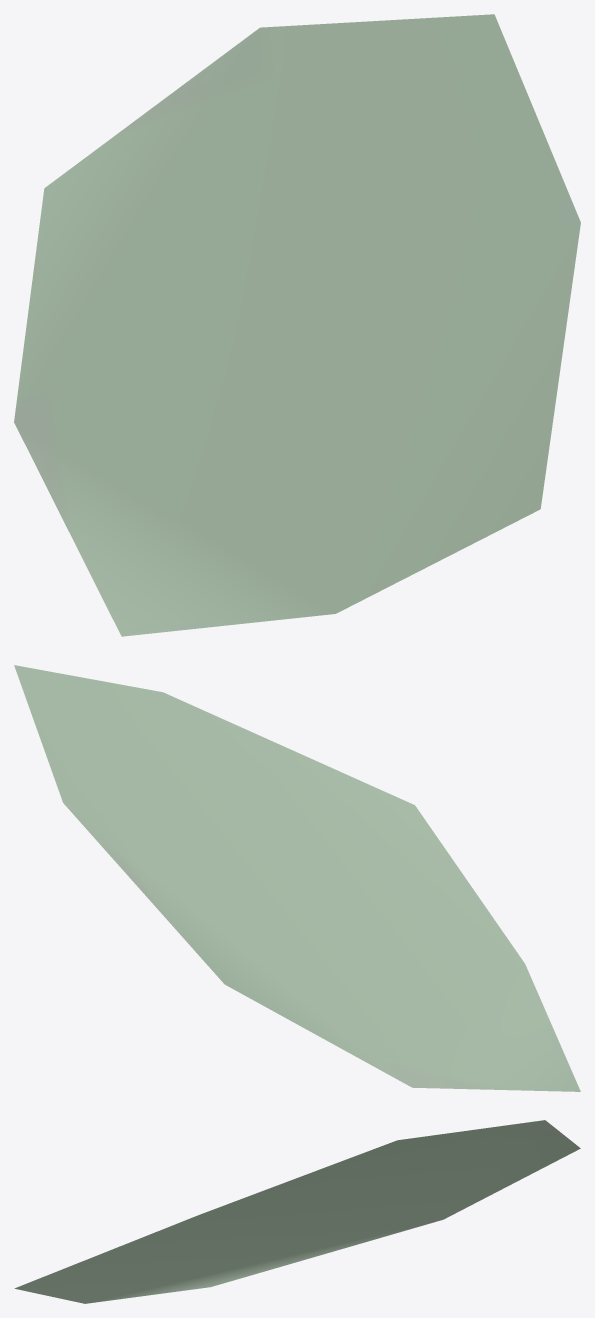
Rendered from TROLLHOLE02_HOLECAP118.fbx.
3 renders of one model, top to bottom at view 1: azimuth 30°, elevation 25°; view 2: azimuth 150°, elevation 25°; view 3: azimuth 270°, elevation 25°, orthographic. The views are drawn at different scales.
Parts seen in each view (by area): view 1: TROLLHOLE02_HOLECAP118; view 2: TROLLHOLE02_HOLECAP118; view 3: TROLLHOLE02_HOLECAP118.
Boxes of the visible parts, x1,y1,x2,y2 form: TROLLHOLE02_HOLECAP118: [14, 14, 580, 636]; TROLLHOLE02_HOLECAP118: [14, 665, 580, 1091]; TROLLHOLE02_HOLECAP118: [14, 1120, 580, 1303].
Size of the model in its own units: 14503 by 11906 by 17991.
1 material, 1 textured.
